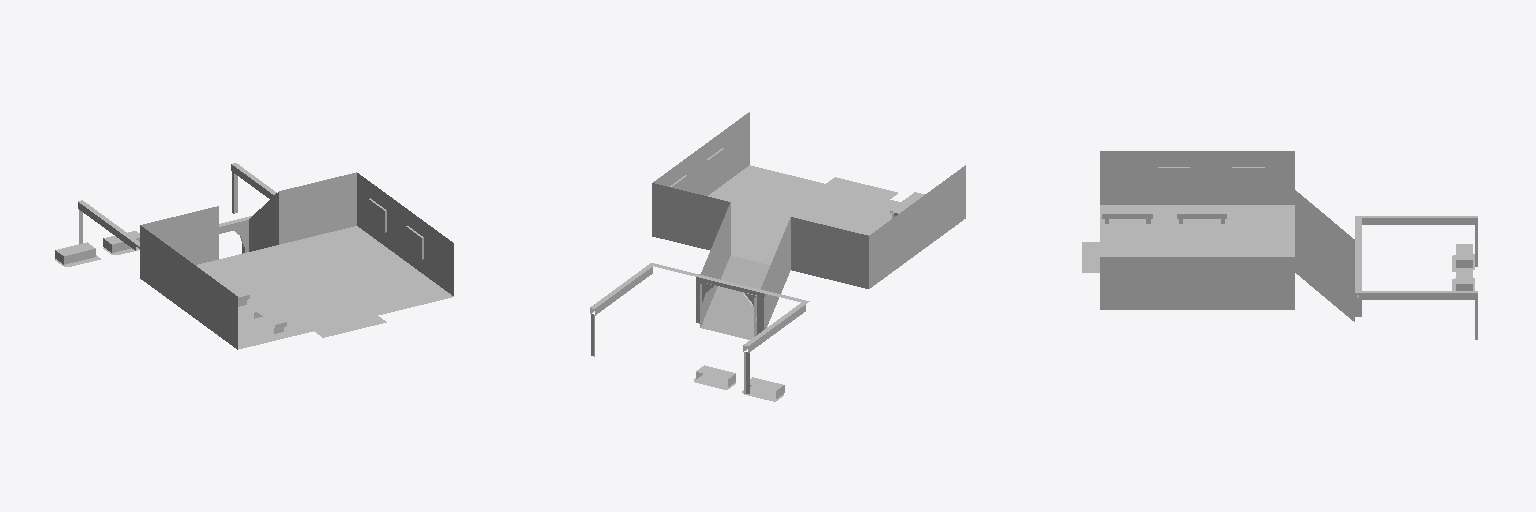
The model's file is HOTEL-B1-7.obj.
3 renders of one model, left to right at view 1: azimuth 30°, elevation 25°; view 2: azimuth 150°, elevation 25°; view 3: azimuth 270°, elevation 25°, orthographic.
Visible parts, largest first — view 1: Indoor_All_v2_06; view 2: Indoor_All_v2_06; view 3: Indoor_All_v2_06.
Boxes of the visible parts, box(x1,y1,x2,y2) form: Indoor_All_v2_06: box(55, 163, 453, 349); Indoor_All_v2_06: box(590, 112, 965, 401); Indoor_All_v2_06: box(1082, 151, 1477, 339).
Size of the model in its own units: 216 by 99 by 343.